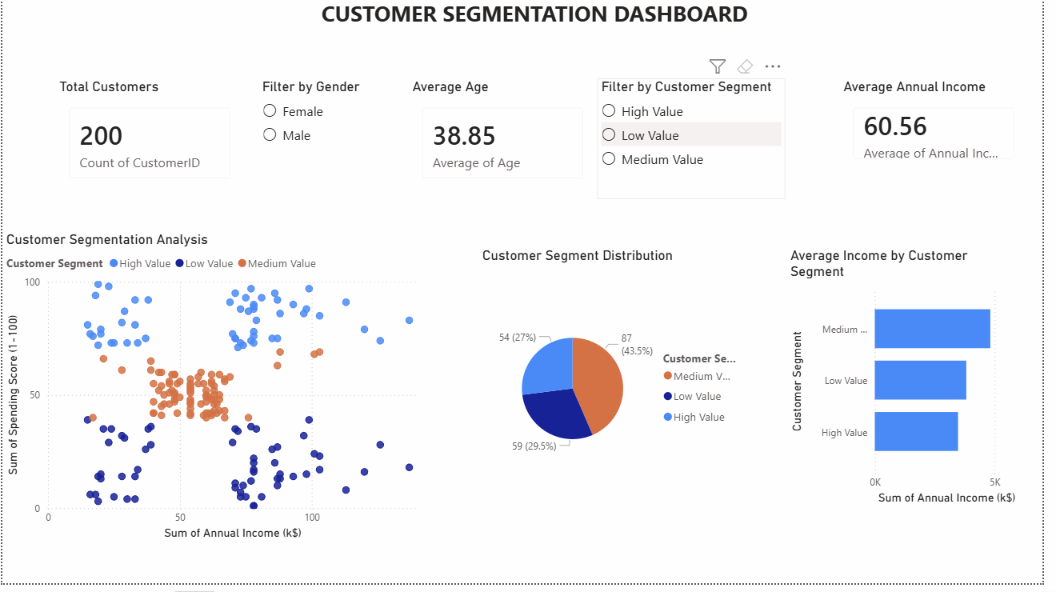

What the dashboard file says about the page in this screenshot:
{"tool":"powerbi","page":{"name":"Page 1","canvas":[1289,730],"ordinal":0},"visuals":[{"type":"cardVisual","title":"Total Customers","fields":{"Data":["CountNonNull(Mall_Customers.CustomerID)"]},"box":[66,103.9,234.8,141.8],"z":0},{"type":"cardVisual","title":"Average Age","fields":{"Data":["Avg(Mall_Customers.Age)"]},"box":[503.8,103.9,234.8,141.8],"z":1000},{"type":"cardVisual","title":"Average Annual Income","fields":{"Data":["Avg(Mall_Customers.Annual Income (k$))"]},"box":[1037.7,104.1,234.3,117.8],"z":2000},{"type":"textbox","box":[10,294,235,150],"z":3000},{"type":"textbox","box":[386.4,0,785.1,103.9],"z":4000},{"type":"scatterChart","title":"Customer Segmentation Analysis","fields":{"X":["Sum(Mall_Customers.Annual Income (k$))"],"Y":["Sum(Mall_Customers.Spending Score (1-100))"],"Series":["Mall_Customers.Customer Segment"],"Category":["Mall_Customers.CustomerID"]},"box":[0,293.8,529.4,386.8],"z":5000},{"type":"pieChart","title":"Customer Segment Distribution","fields":{"Category":["Mall_Customers.Customer Segment"],"Y":["CountNonNull(Mall_Customers.CustomerID)"]},"box":[590.2,313.7,329.8,331],"z":6000},{"type":"clusteredBarChart","title":"Average Income by Customer Segment","fields":{"Category":["Mall_Customers.Customer Segment"],"Y":["Sum(Mall_Customers.Annual Income (k$))"]},"box":[972,313.7,300,323.6],"z":7000},{"type":"listSlicer","title":"Filter by Gender","fields":{"Values":["Mall_Customers.Gender"]},"box":[317.4,104.1,141.3,150],"z":8000},{"type":"listSlicer","title":"Filter by Customer Segment","fields":{"Values":["Mall_Customers.Customer Segment"]},"box":[737.7,104.1,233.1,150],"z":9000}]}

Visuals, with their boxes in screenshot pixels (x1, y1, x2, y2), scaled from the page's 1289x730 canvas onto the 1057x592 screenshot:
"Total Customers" cardVisual: (54, 84, 247, 199)
"Average Age" cardVisual: (413, 84, 606, 199)
"Average Annual Income" cardVisual: (851, 84, 1043, 180)
textbox: (8, 238, 201, 360)
textbox: (317, 0, 961, 84)
"Customer Segmentation Analysis" scatterChart: (0, 238, 434, 552)
"Customer Segment Distribution" pieChart: (484, 254, 754, 523)
"Average Income by Customer Segment" clusteredBarChart: (797, 254, 1043, 517)
"Filter by Gender" listSlicer: (260, 84, 376, 206)
"Filter by Customer Segment" listSlicer: (605, 84, 796, 206)
